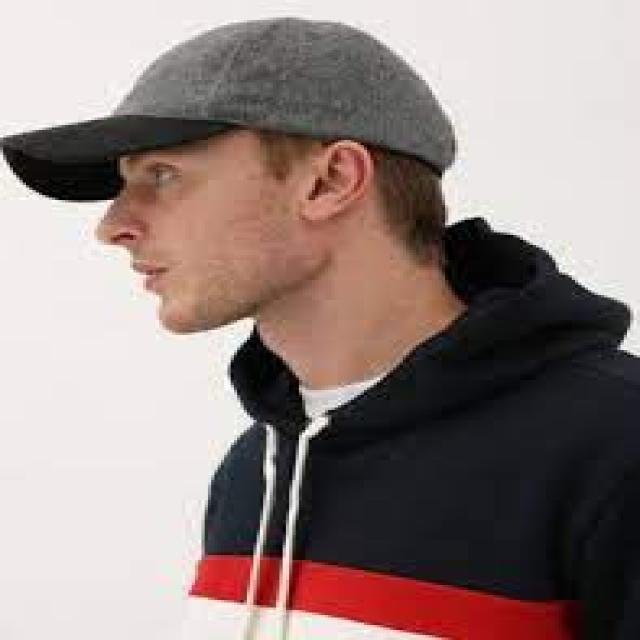cap: (11, 5, 482, 206)
